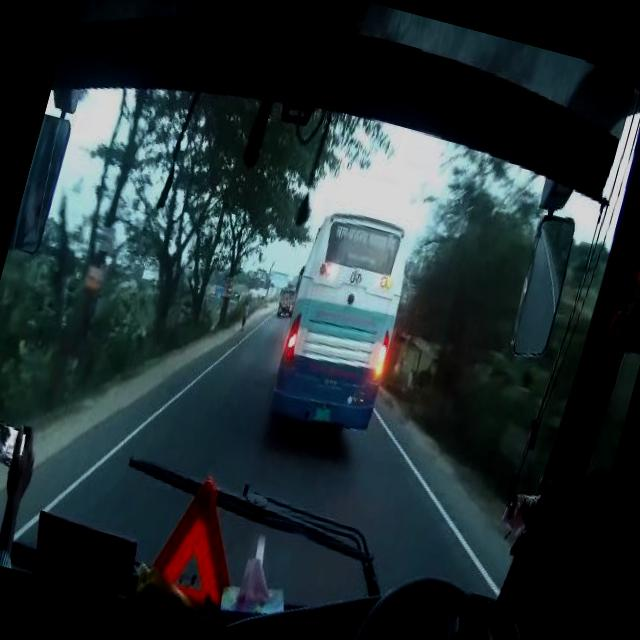bus: (264, 202, 422, 442)
truck: (274, 278, 299, 318)
